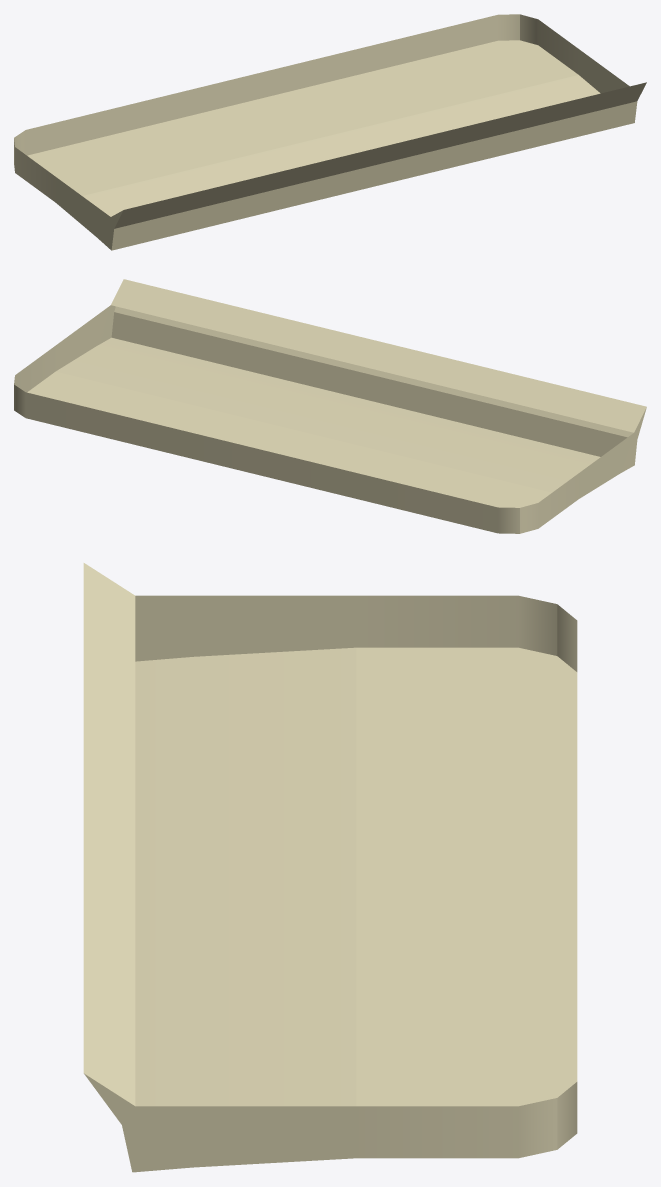
The model's file is hinge_Top.fbx.
3 views of the same model, one above another, from view 1: azimuth 30°, elevation 25°; view 2: azimuth 150°, elevation 25°; view 3: azimuth 270°, elevation 25° (orthographic). The views are drawn at different scales.
Parts seen in each view (by area): view 1: hinge_Top; view 2: hinge_Top; view 3: hinge_Top.
Part boxes in pixels (x1,y1,x2,y2): hinge_Top: (14,14,646,250); hinge_Top: (14,279,646,533); hinge_Top: (83,563,577,1172).
Size of the model in its own units: 205 by 19.09 by 83.79.
